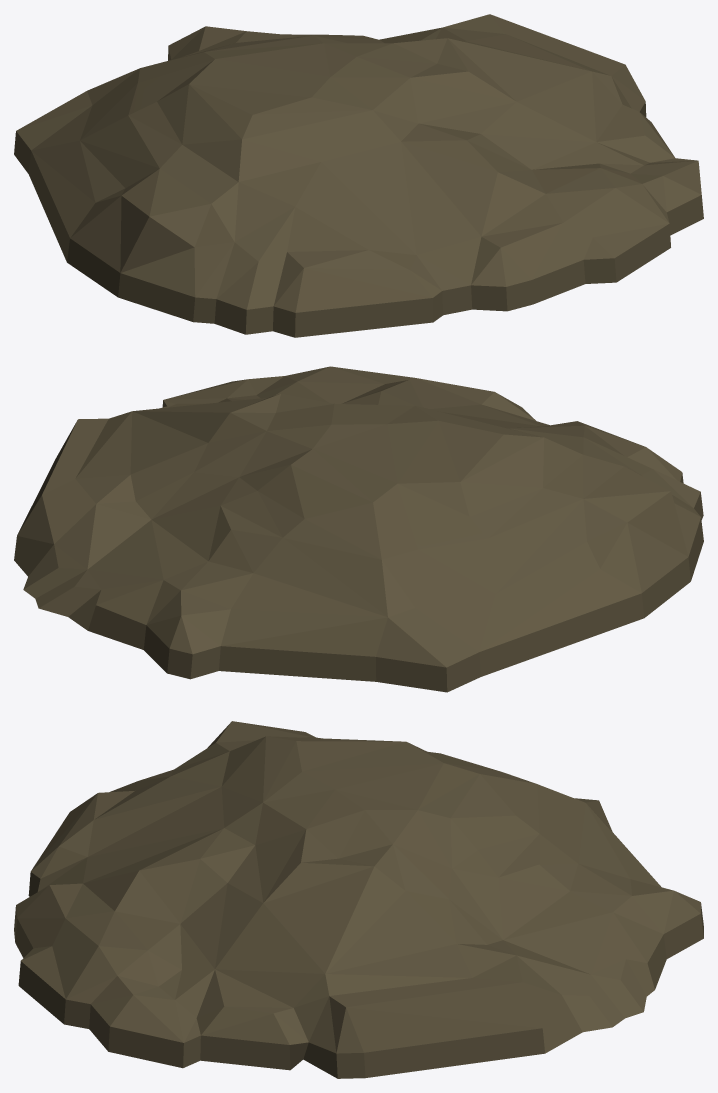
File: rock__debris2_medium.glb
3 views of the same model, one above another, from view 1: azimuth 30°, elevation 25°; view 2: azimuth 150°, elevation 25°; view 3: azimuth 270°, elevation 25° (orthographic). The views are drawn at different scales.
Visible parts, largest first — view 1: debris2.medium; view 2: debris2.medium; view 3: debris2.medium.
Boxes of the visible parts, <box> form: debris2.medium: <box>14,14,703,337</box>; debris2.medium: <box>14,366,703,692</box>; debris2.medium: <box>14,721,703,1078</box>.
Bounding box in the file's own units: 5.21 × 1.09 × 5.24.
Materials: 1 (1 with a texture image).
